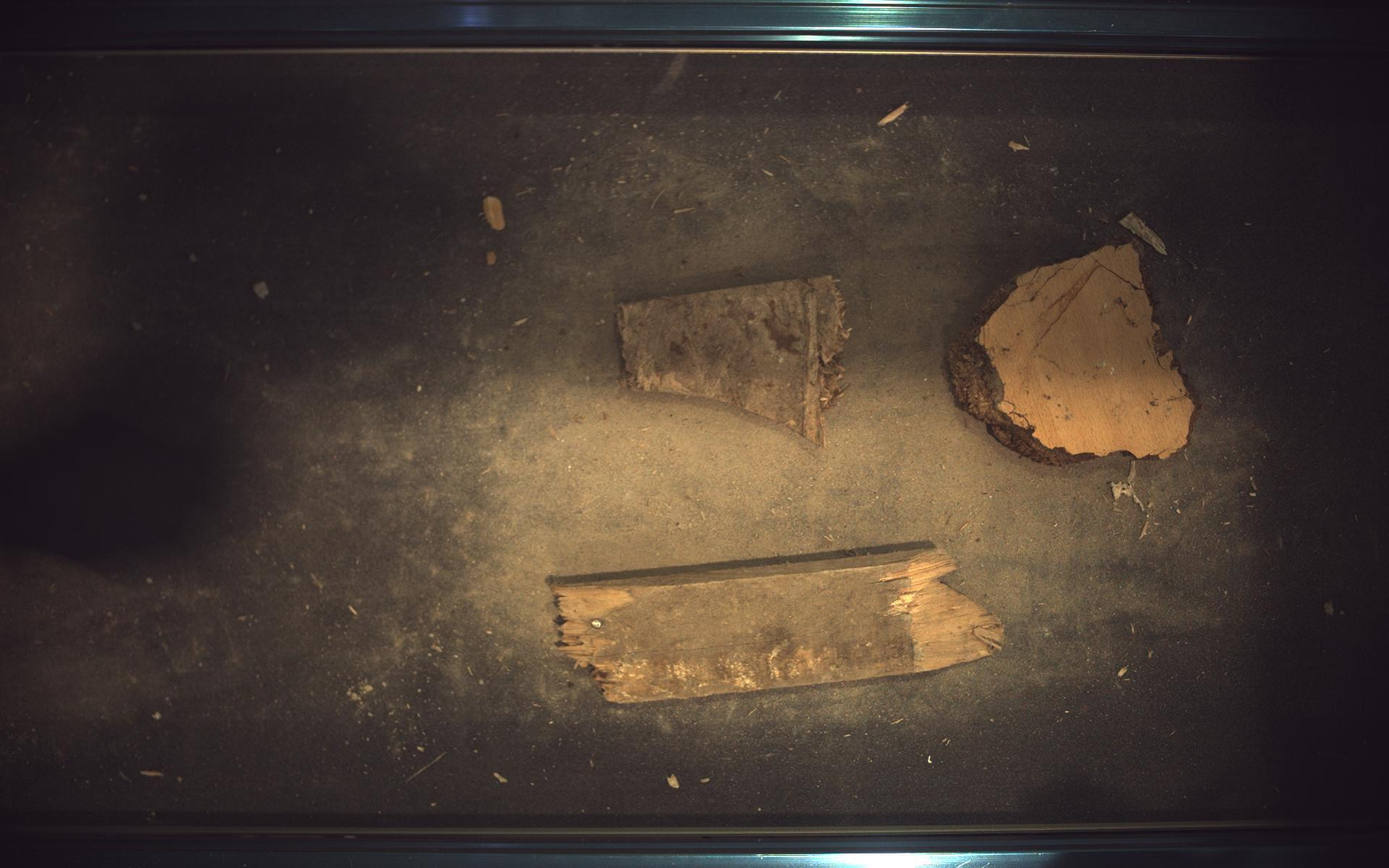wood: (549, 542, 1006, 704), (949, 242, 1199, 465), (618, 275, 851, 446)
